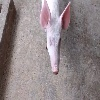heo: (38, 1, 72, 75)
